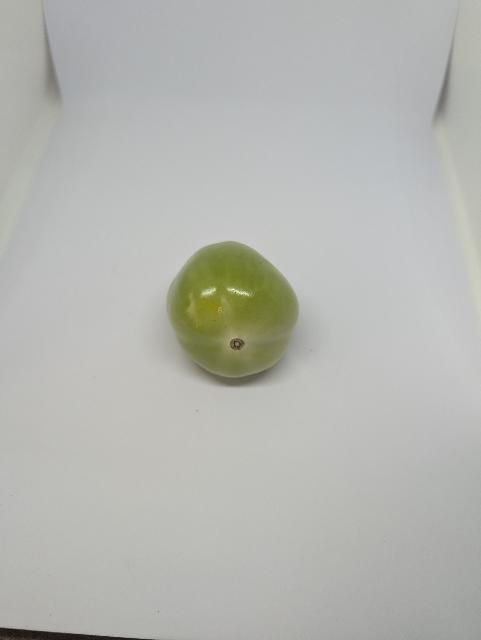green: (157, 237, 308, 388)
